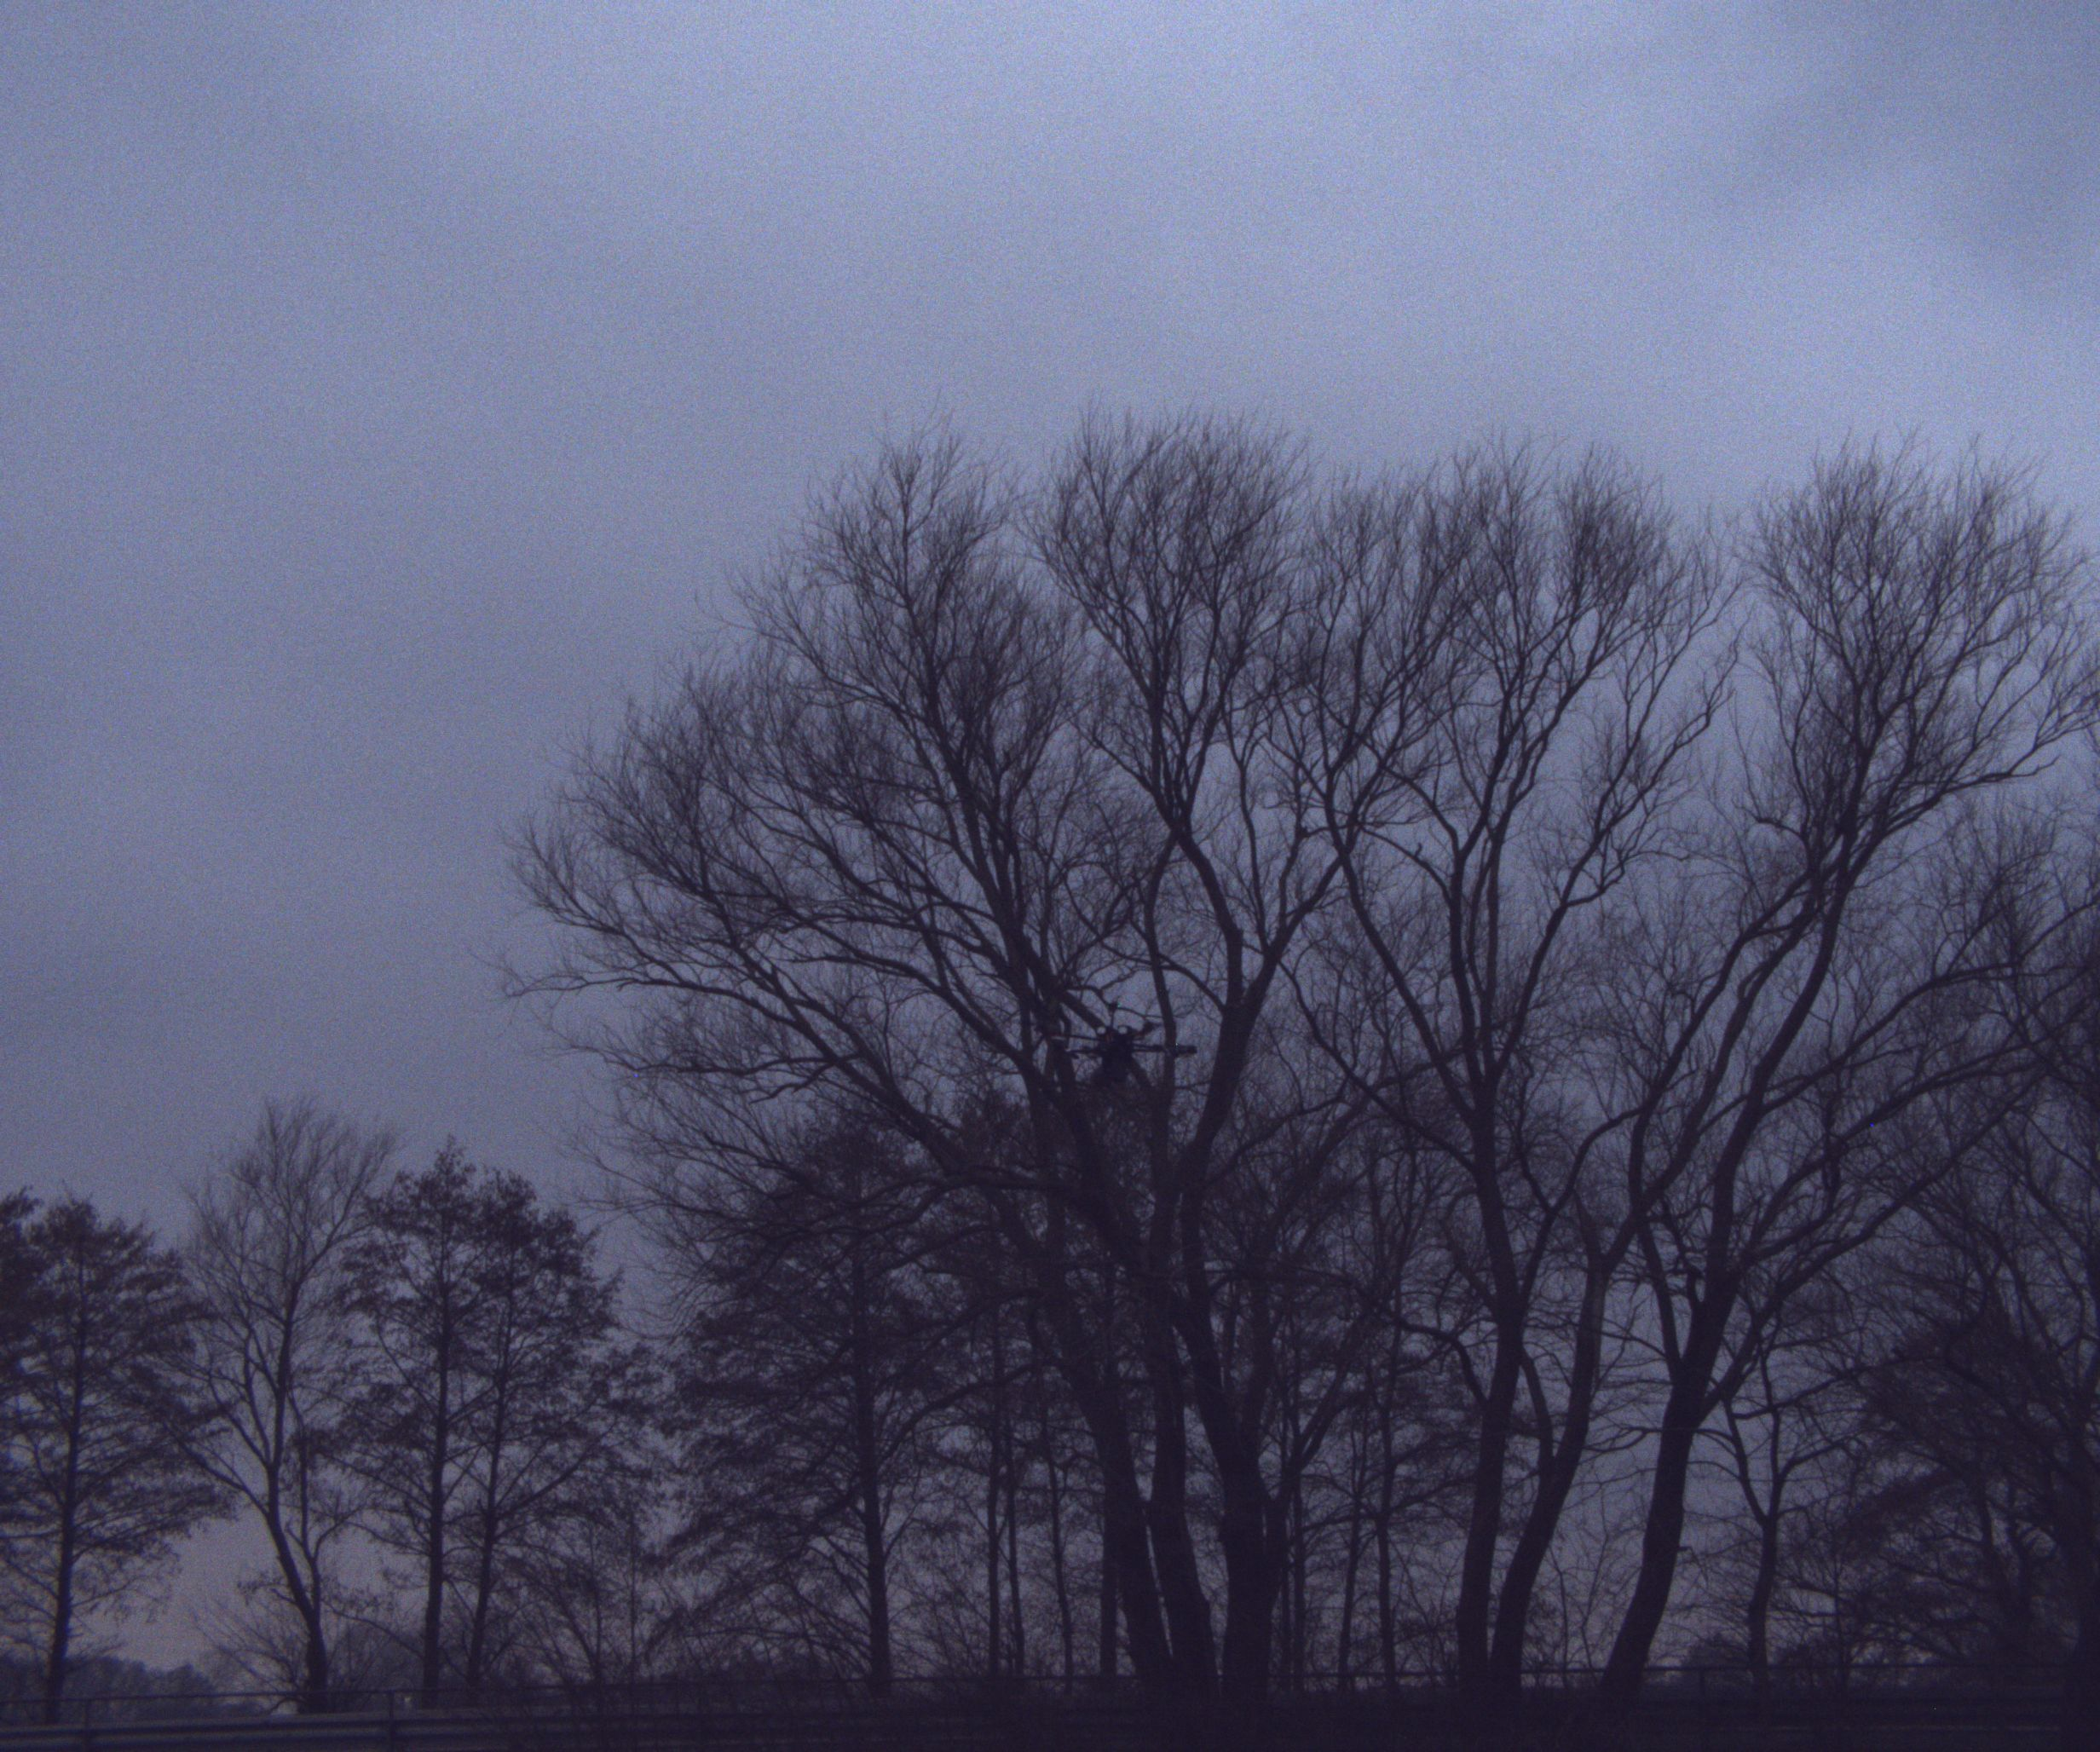Drohne: (1006, 983, 1380, 1175)
